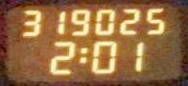0: (90, 40, 116, 73), (93, 8, 114, 35)
1: (134, 41, 143, 71), (56, 10, 64, 34)
2: (48, 40, 74, 74), (117, 7, 139, 34)
3: (21, 9, 40, 36)
5: (145, 7, 164, 34)
9: (68, 8, 89, 35)
X: (78, 46, 87, 63)
